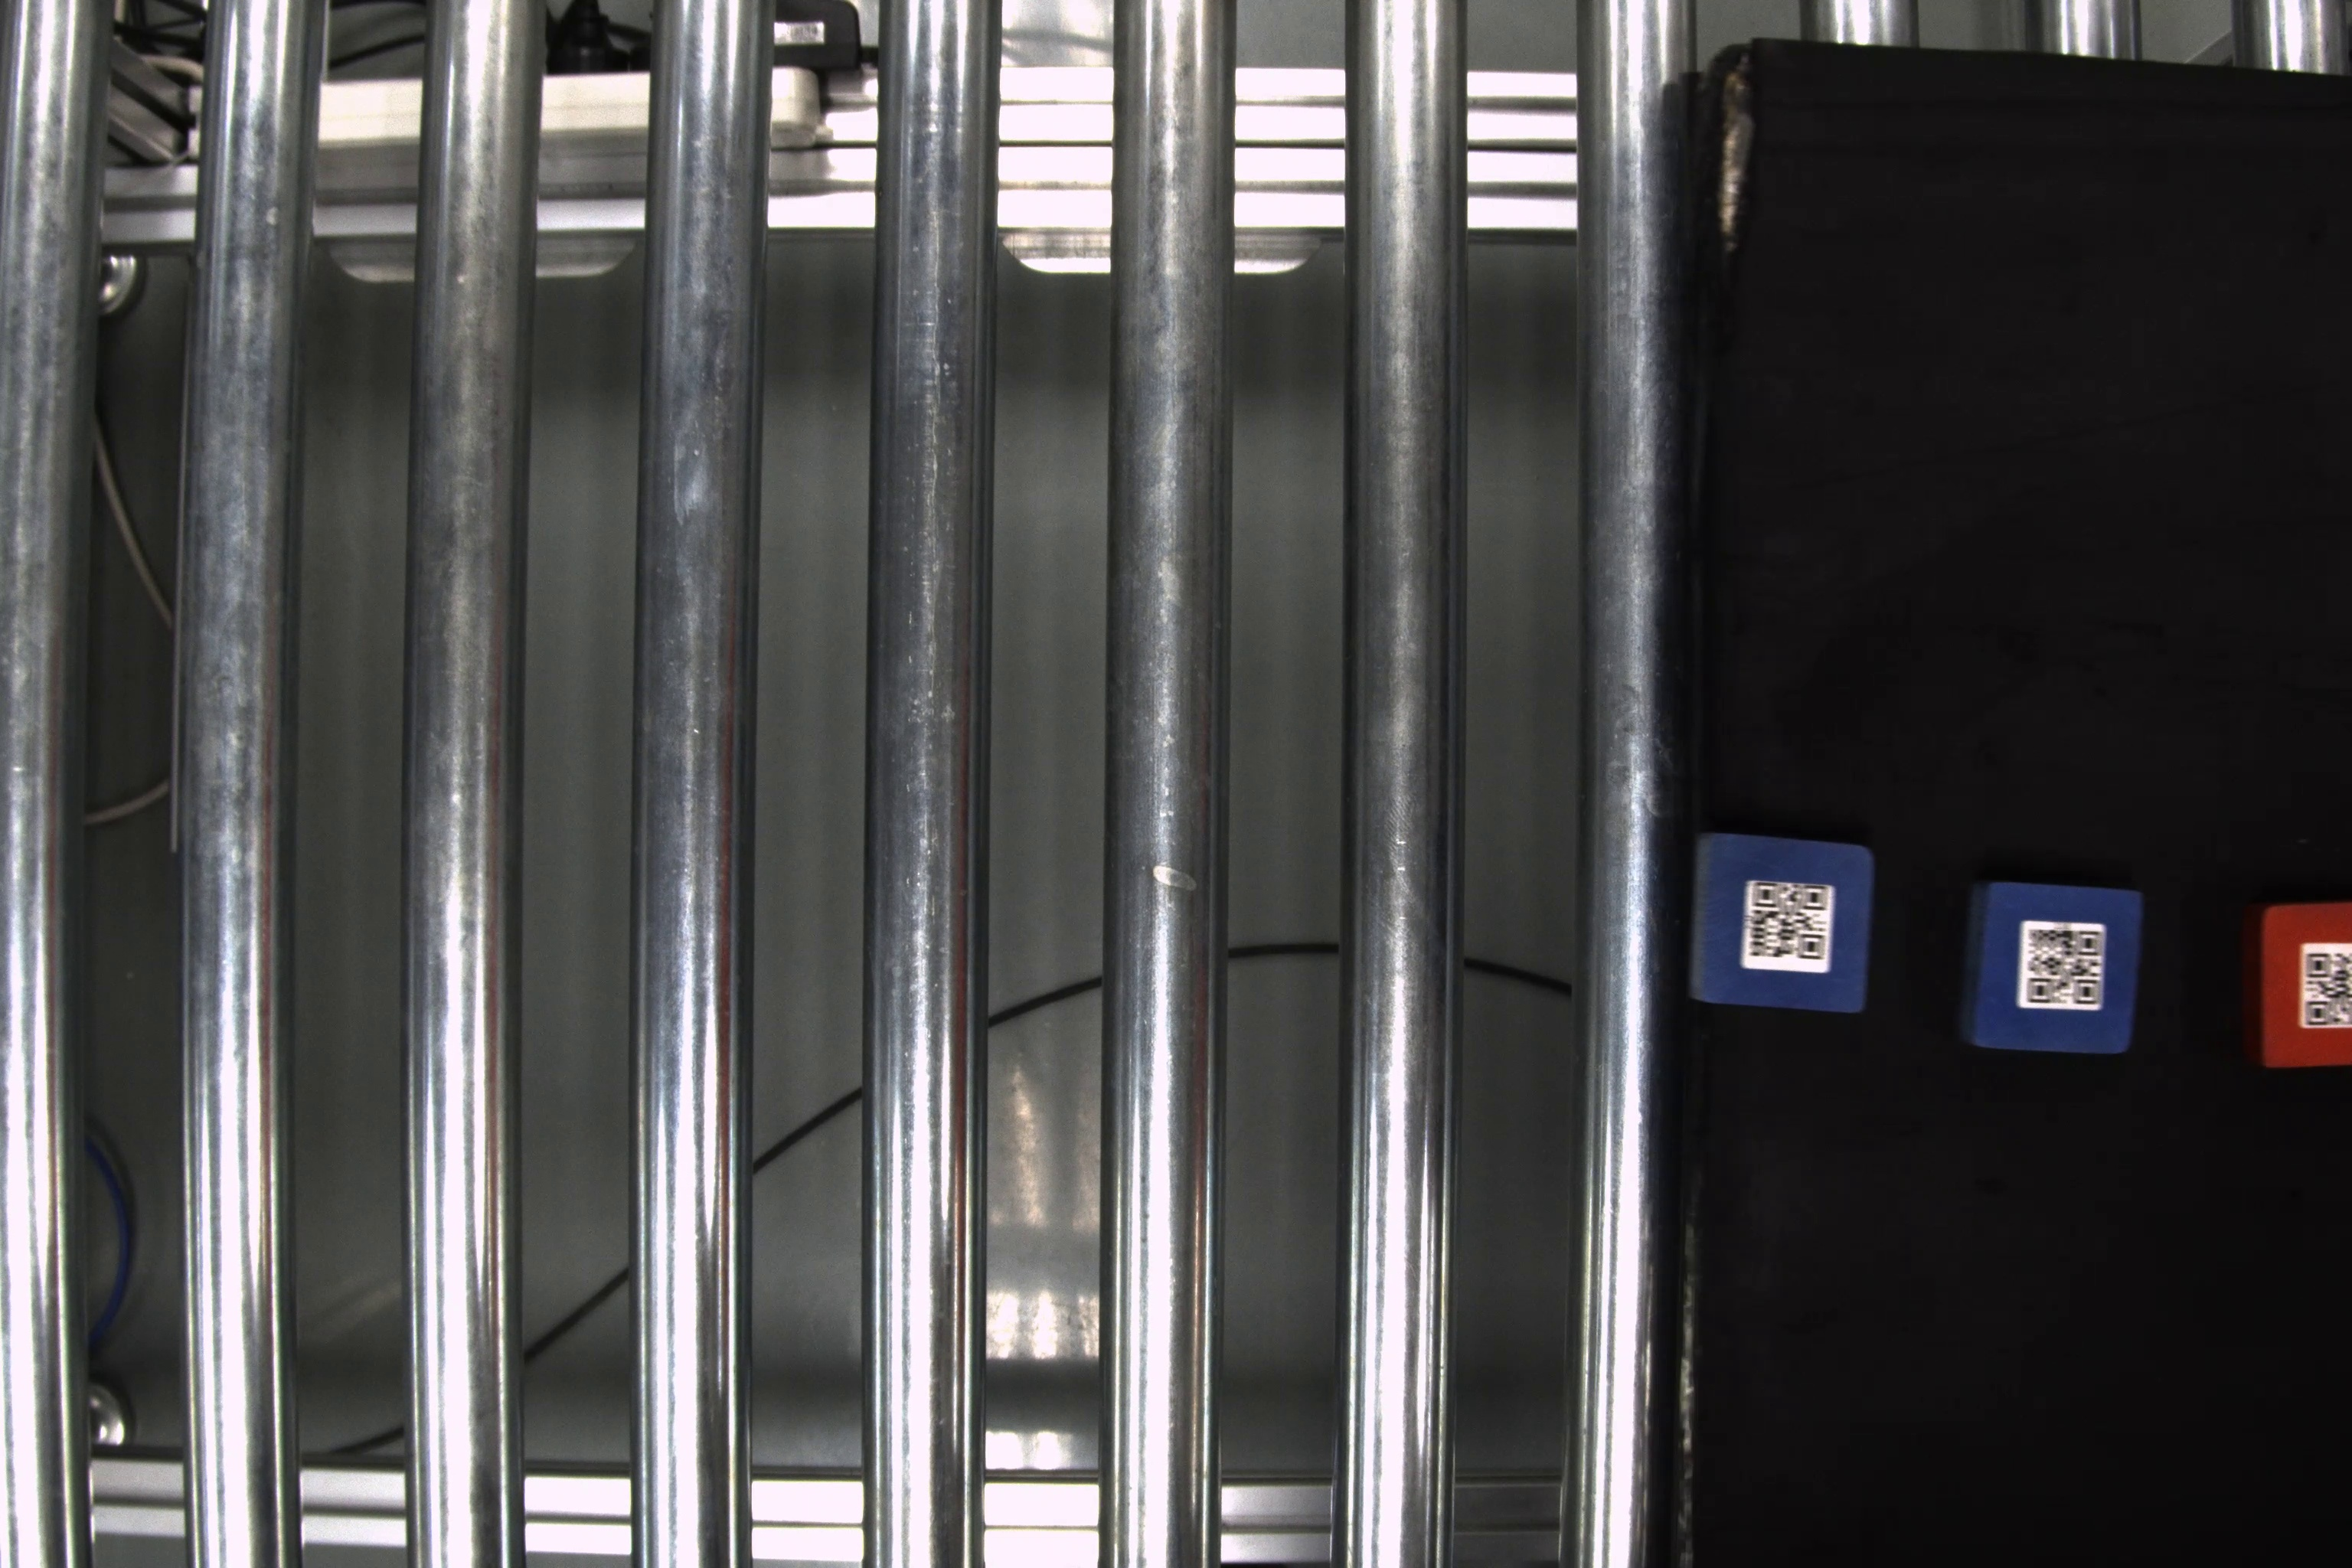wood: (1696, 831, 1881, 1017), (1962, 880, 2138, 1048), (2247, 896, 2347, 1074)
